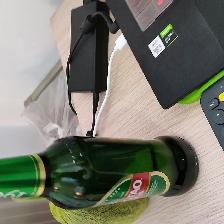gua: (68, 210, 137, 224)
